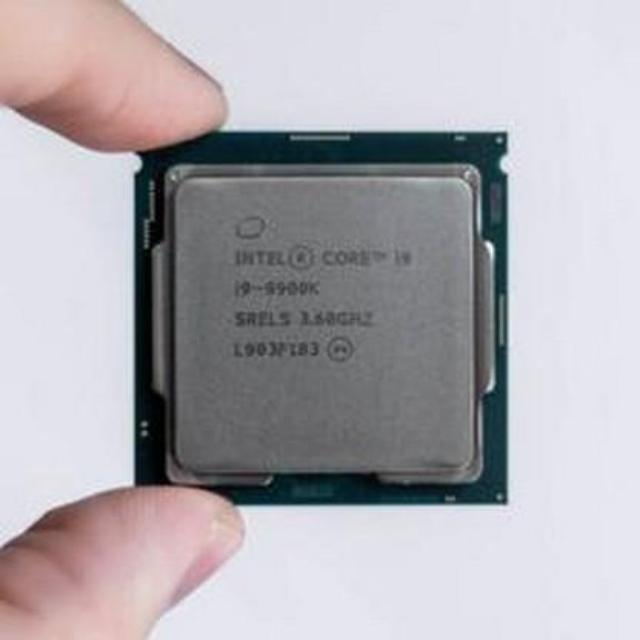CPU: (138, 138, 502, 507)
